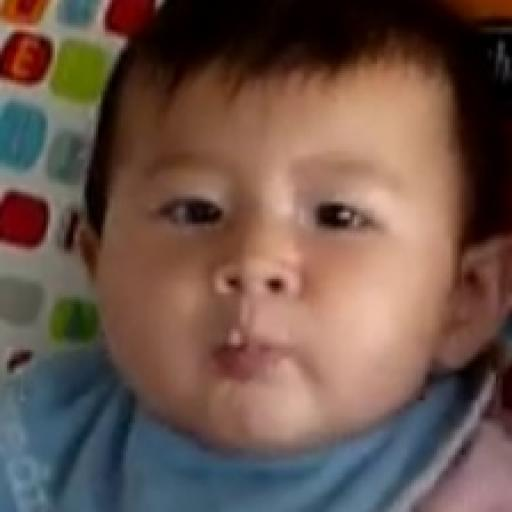Autism: (82, 6, 512, 460)
